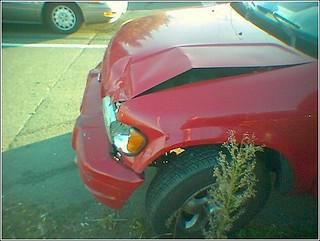bonnet-dent: (105, 24, 228, 103)
fender-dent: (150, 107, 243, 157)
